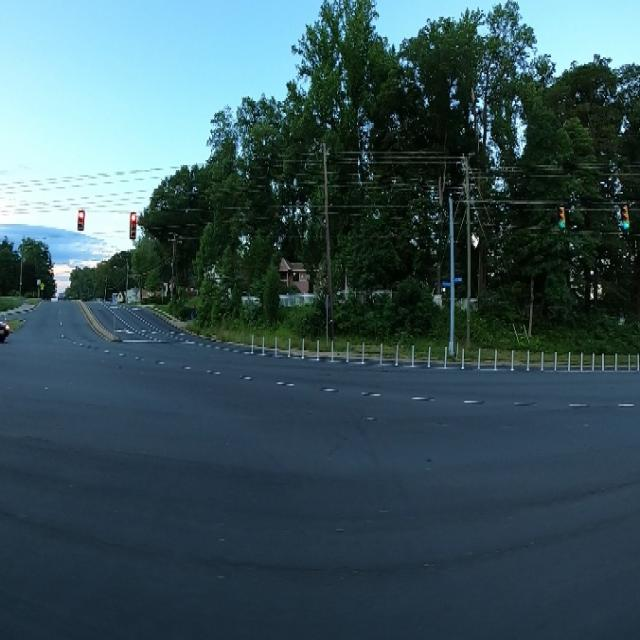cars: (0, 306, 12, 347)
